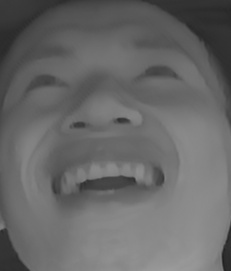eye: (132, 57, 189, 89), (23, 65, 73, 101)
mouth: (42, 146, 167, 209)
